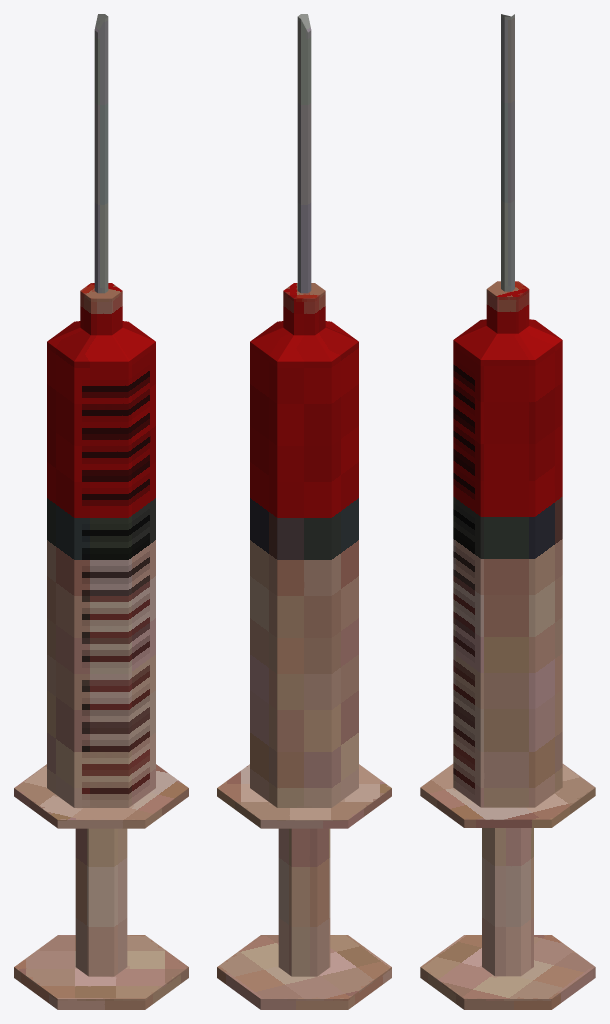
File: Med_7.glb
3 views of the same model, side by side, from view 1: azimuth 30°, elevation 25°; view 2: azimuth 150°, elevation 25°; view 3: azimuth 270°, elevation 25° (orthographic).
Visible parts, largest first — view 1: Med_7; view 2: Med_7; view 3: Med_7.
Part boxes in pixels (bbox=[...]): Med_7: bbox=[14, 14, 188, 1009]; Med_7: bbox=[217, 14, 391, 1009]; Med_7: bbox=[420, 14, 595, 1009].
Size of the model in its own units: 1.42 by 9.96 by 1.64.
Materials: 1 (1 with a texture image).
